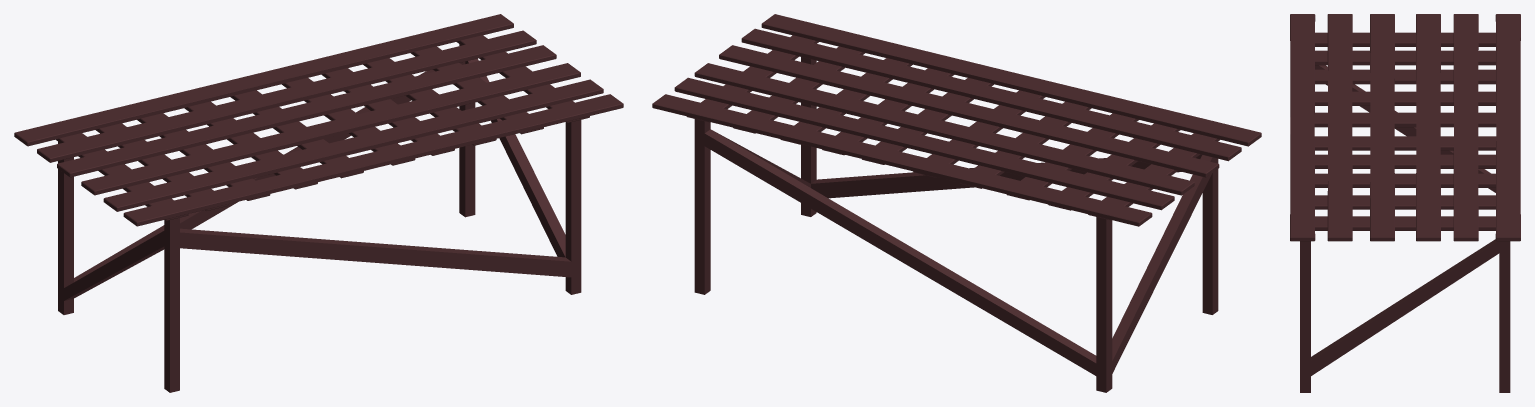
Rendered from table.fbx.
The picture shows the model from 3 angles, left to right: view 1: azimuth 30°, elevation 25°; view 2: azimuth 150°, elevation 25°; view 3: azimuth 270°, elevation 25°; orthographic projection. The views are drawn at different scales.
Parts seen in each view (by area): view 1: table; view 2: table; view 3: table.
Boxes of the visible parts, x1,y1,x2,y2 form: table: (14,14,623,392); table: (652,14,1261,392); table: (1290,14,1520,392).
Size of the model in its own units: 18.9 by 6.82 by 8.25.
